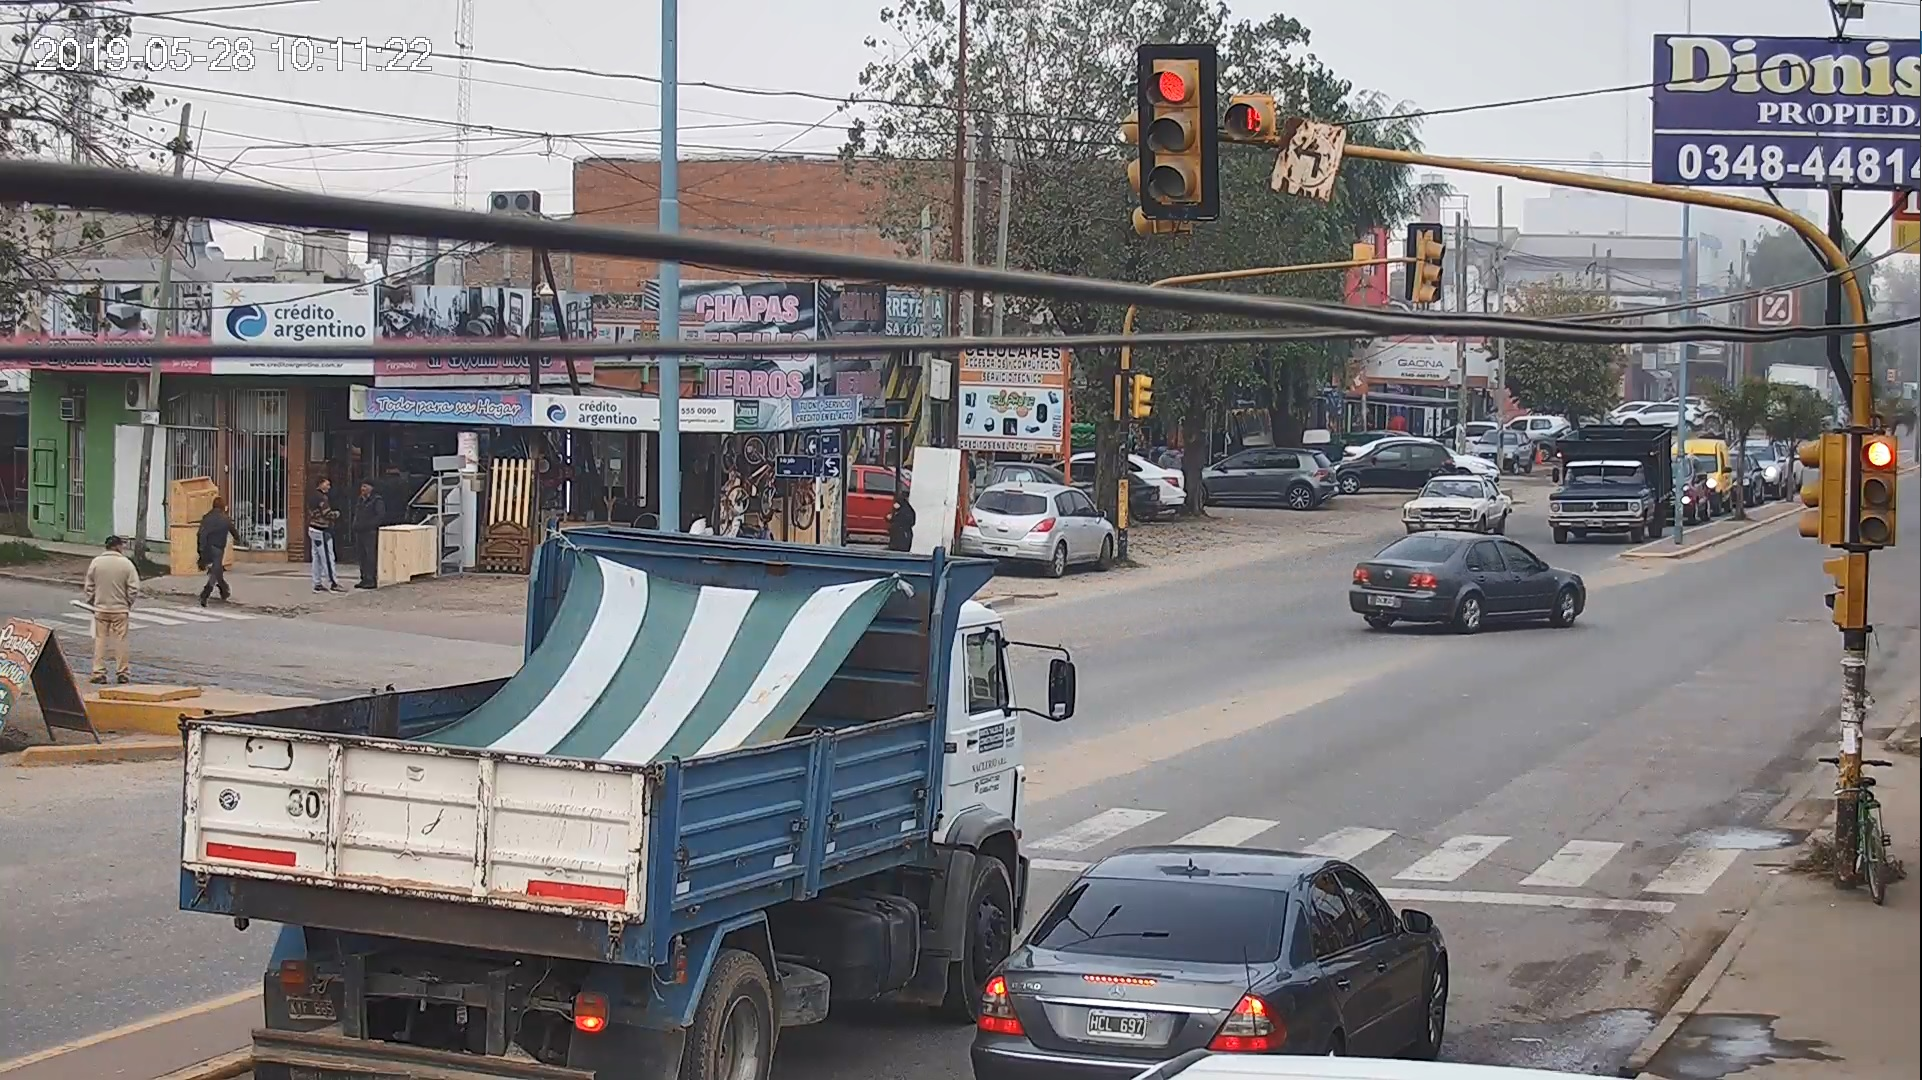car: (966, 815, 1461, 1080), (1335, 522, 1616, 652), (958, 477, 1129, 577), (1391, 471, 1519, 543)
truck: (166, 520, 1085, 1080), (1542, 413, 1678, 555)
